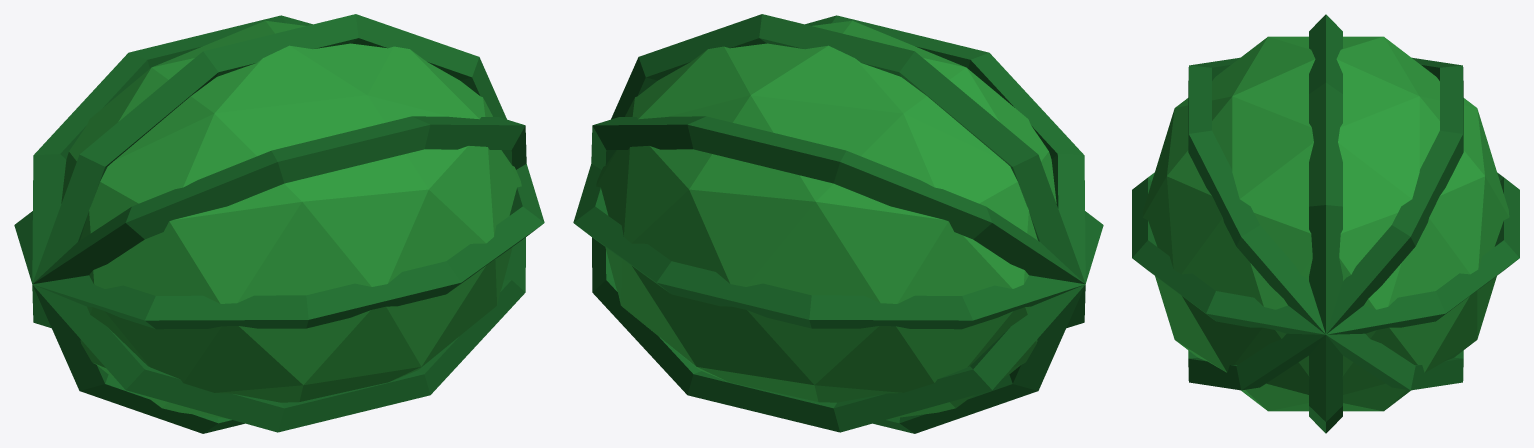
Rendered from melancia.glb.
3 views of the same model, side by side, from view 1: azimuth 30°, elevation 25°; view 2: azimuth 150°, elevation 25°; view 3: azimuth 270°, elevation 25° (orthographic). The views are drawn at different scales.
Visible parts, largest first — view 1: Melancia_Corpo, Melancia_Listra_2, Melancia_Listra_3, Melancia_Listra_4, Melancia_Listra_1; view 2: Melancia_Corpo, Melancia_Listra_4, Melancia_Listra_3, Melancia_Listra_2, Melancia_Listra_1; view 3: Melancia_Corpo, Melancia_Listra_2, Melancia_Listra_4, Melancia_Listra_3, Melancia_Listra_1.
Part boxes in pixels (bbox=[...]): Melancia_Corpo: bbox=[61, 20, 521, 418]; Melancia_Listra_2: bbox=[32, 15, 525, 432]; Melancia_Listra_3: bbox=[32, 14, 506, 433]; Melancia_Listra_4: bbox=[32, 116, 526, 328]; Melancia_Listra_1: bbox=[14, 164, 544, 329]; Melancia_Corpo: bbox=[596, 20, 1056, 418]; Melancia_Listra_4: bbox=[592, 15, 1085, 432]; Melancia_Listra_3: bbox=[611, 14, 1085, 433]; Melancia_Listra_2: bbox=[591, 116, 1085, 328]; Melancia_Listra_1: bbox=[573, 164, 1103, 329]; Melancia_Corpo: bbox=[1142, 36, 1509, 411]; Melancia_Listra_2: bbox=[1188, 57, 1463, 390]; Melancia_Listra_4: bbox=[1188, 57, 1463, 390]; Melancia_Listra_3: bbox=[1309, 14, 1342, 433]; Melancia_Listra_1: bbox=[1132, 172, 1519, 334].
Bounding box in the file's own units: 0.981 × 0.7257 × 0.7257.
